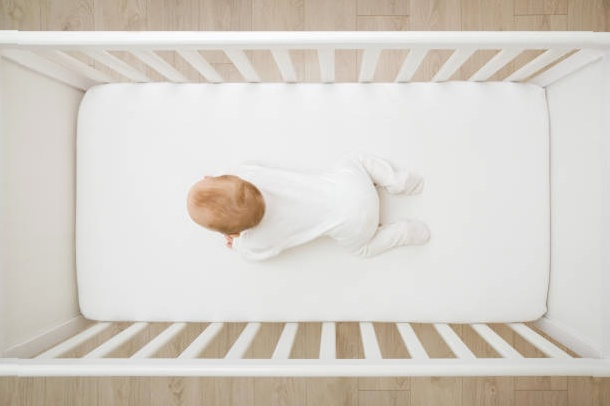baby: (187, 153, 429, 259)
crib: (73, 63, 550, 359)
